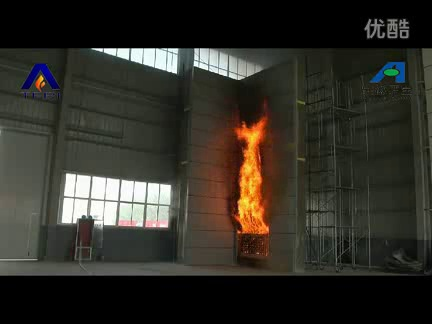fire: (232, 113, 272, 234)
